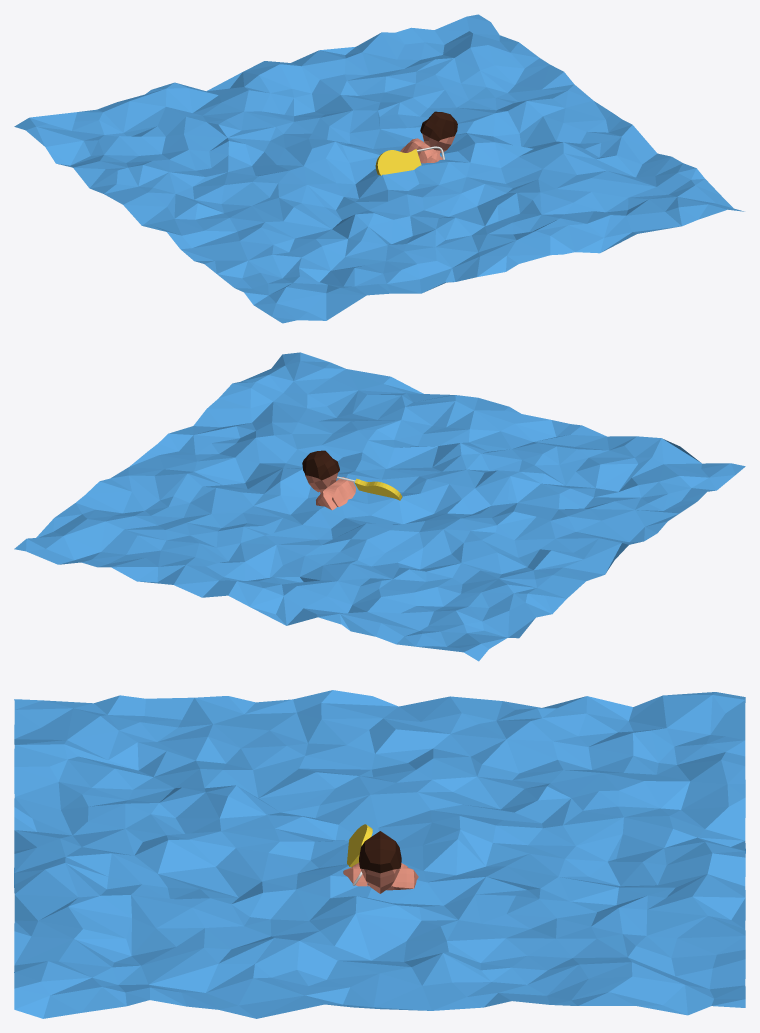
Rendered from rhy_swimming.glb.
The picture shows the model from 3 angles, top to bottom: view 1: azimuth 30°, elevation 25°; view 2: azimuth 150°, elevation 25°; view 3: azimuth 270°, elevation 25°; orthographic projection. The views are drawn at different scales.
Visible parts, largest first — view 1: Plane, char_Cube.000, Circle; view 2: Plane, char_Cube.000, Circle; view 3: Plane, char_Cube.000, Circle.
Part boxes in pixels (bbox=[...]): Plane: bbox=[14, 14, 744, 323]; char_Cube.000: bbox=[400, 111, 457, 163]; Circle: bbox=[375, 146, 444, 175]; Plane: bbox=[14, 352, 745, 661]; char_Cube.000: bbox=[302, 450, 355, 510]; Circle: bbox=[337, 476, 402, 500]; Plane: bbox=[14, 690, 745, 1018]; char_Cube.000: bbox=[343, 831, 418, 893]; Circle: bbox=[347, 824, 372, 885].
Bounding box in the file's own units: 1.79 × 0.4467 × 1.79.
Materials: 3 (3 with a texture image).
